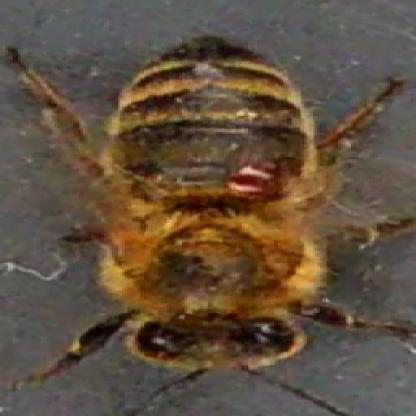bee: (84, 37, 334, 392)
vaoora: (221, 160, 279, 203)
